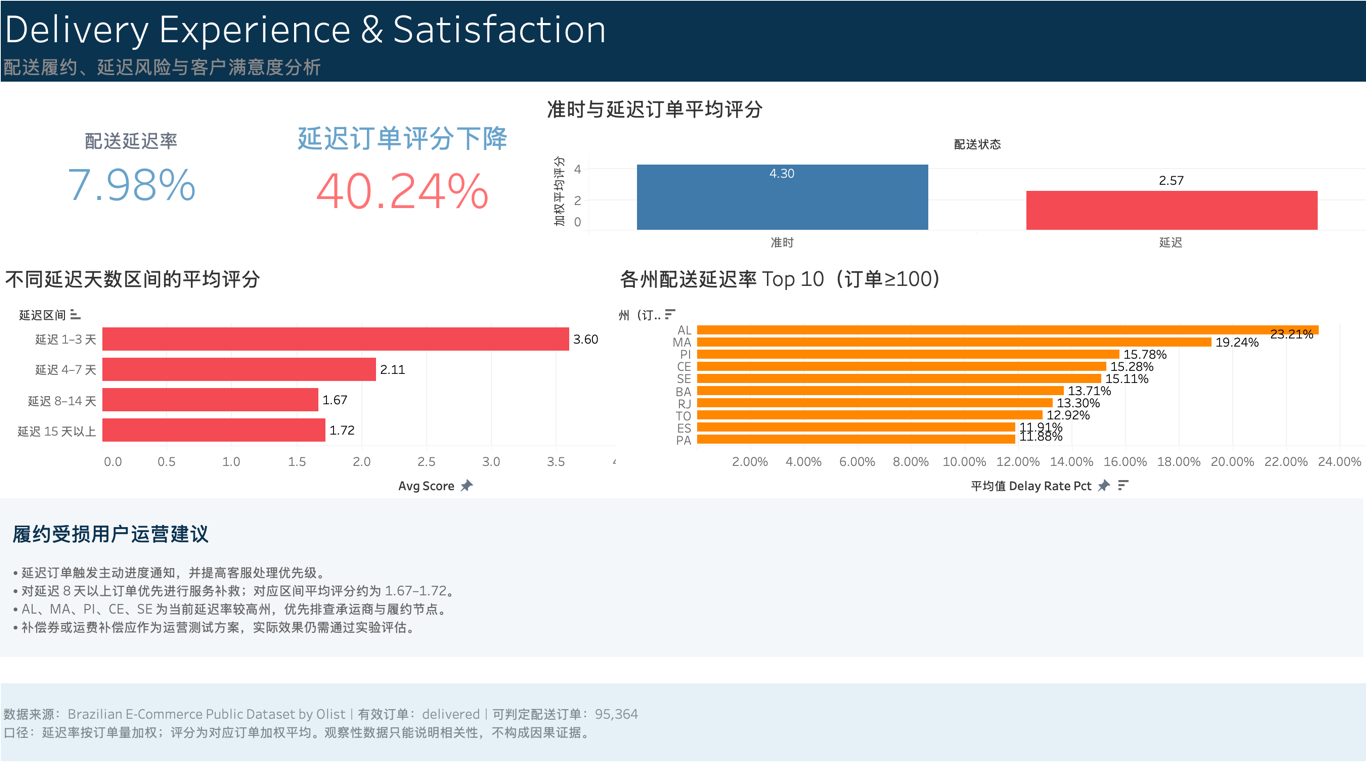

The dashboard page shown, as its layout file describes it:
{"tool":"tableau","page":{"name":"Delivery Experience & Satisfaction","canvas":[1366,768],"ordinal":2},"visuals":[{"type":"text","box":[8,8,1350,80]},{"type":"worksheet","title":"KPI Delivery Delay Rate","mark":"Automatic","box":[8,96,260,160]},{"type":"worksheet","title":"KPI Score Decline","mark":"Automatic","box":[276,96,260,160]},{"type":"worksheet","title":"On-Time vs Delayed Score","mark":"Automatic","rows":["Calculation_6235300035608583"],"cols":["Calculation_6235300035538950"],"box":[544,96,814,160]},{"type":"worksheet","title":"Delay Bucket Score","mark":"Automatic","rows":["Calculation_6235300038860808"],"cols":["avg_score"],"box":[8,264,742,239]},{"type":"worksheet","title":"State Delay Top 10","mark":"Automatic","rows":["Calculation_6235300040806411"],"cols":["delay_rate_pct"],"box":[616,264,742,239]},{"type":"text","box":[5,500,1350,157]},{"type":"text","box":[8,683,1350,77]}]}

Visuals, with their boxes in screenshot pixels (x1, y1, x2, y2), scaled from the page's 1366x768 canvas onto the 1366x768 screenshot:
text: crop(8, 8, 1358, 88)
"KPI Delivery Delay Rate" worksheet: crop(8, 96, 268, 256)
"KPI Score Decline" worksheet: crop(276, 96, 536, 256)
"On-Time vs Delayed Score" worksheet: crop(544, 96, 1358, 256)
"Delay Bucket Score" worksheet: crop(8, 264, 750, 503)
"State Delay Top 10" worksheet: crop(616, 264, 1358, 503)
text: crop(5, 500, 1355, 657)
text: crop(8, 683, 1358, 760)
